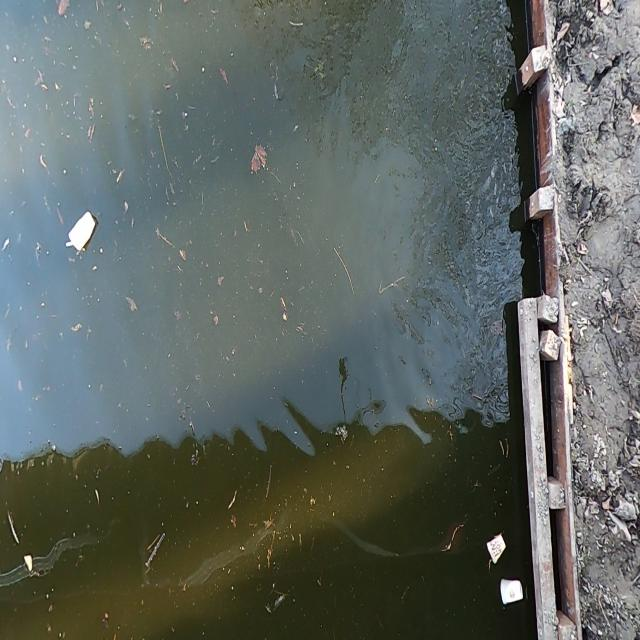Non plastique: (62, 208, 101, 257), (497, 578, 527, 608), (488, 532, 510, 572)
